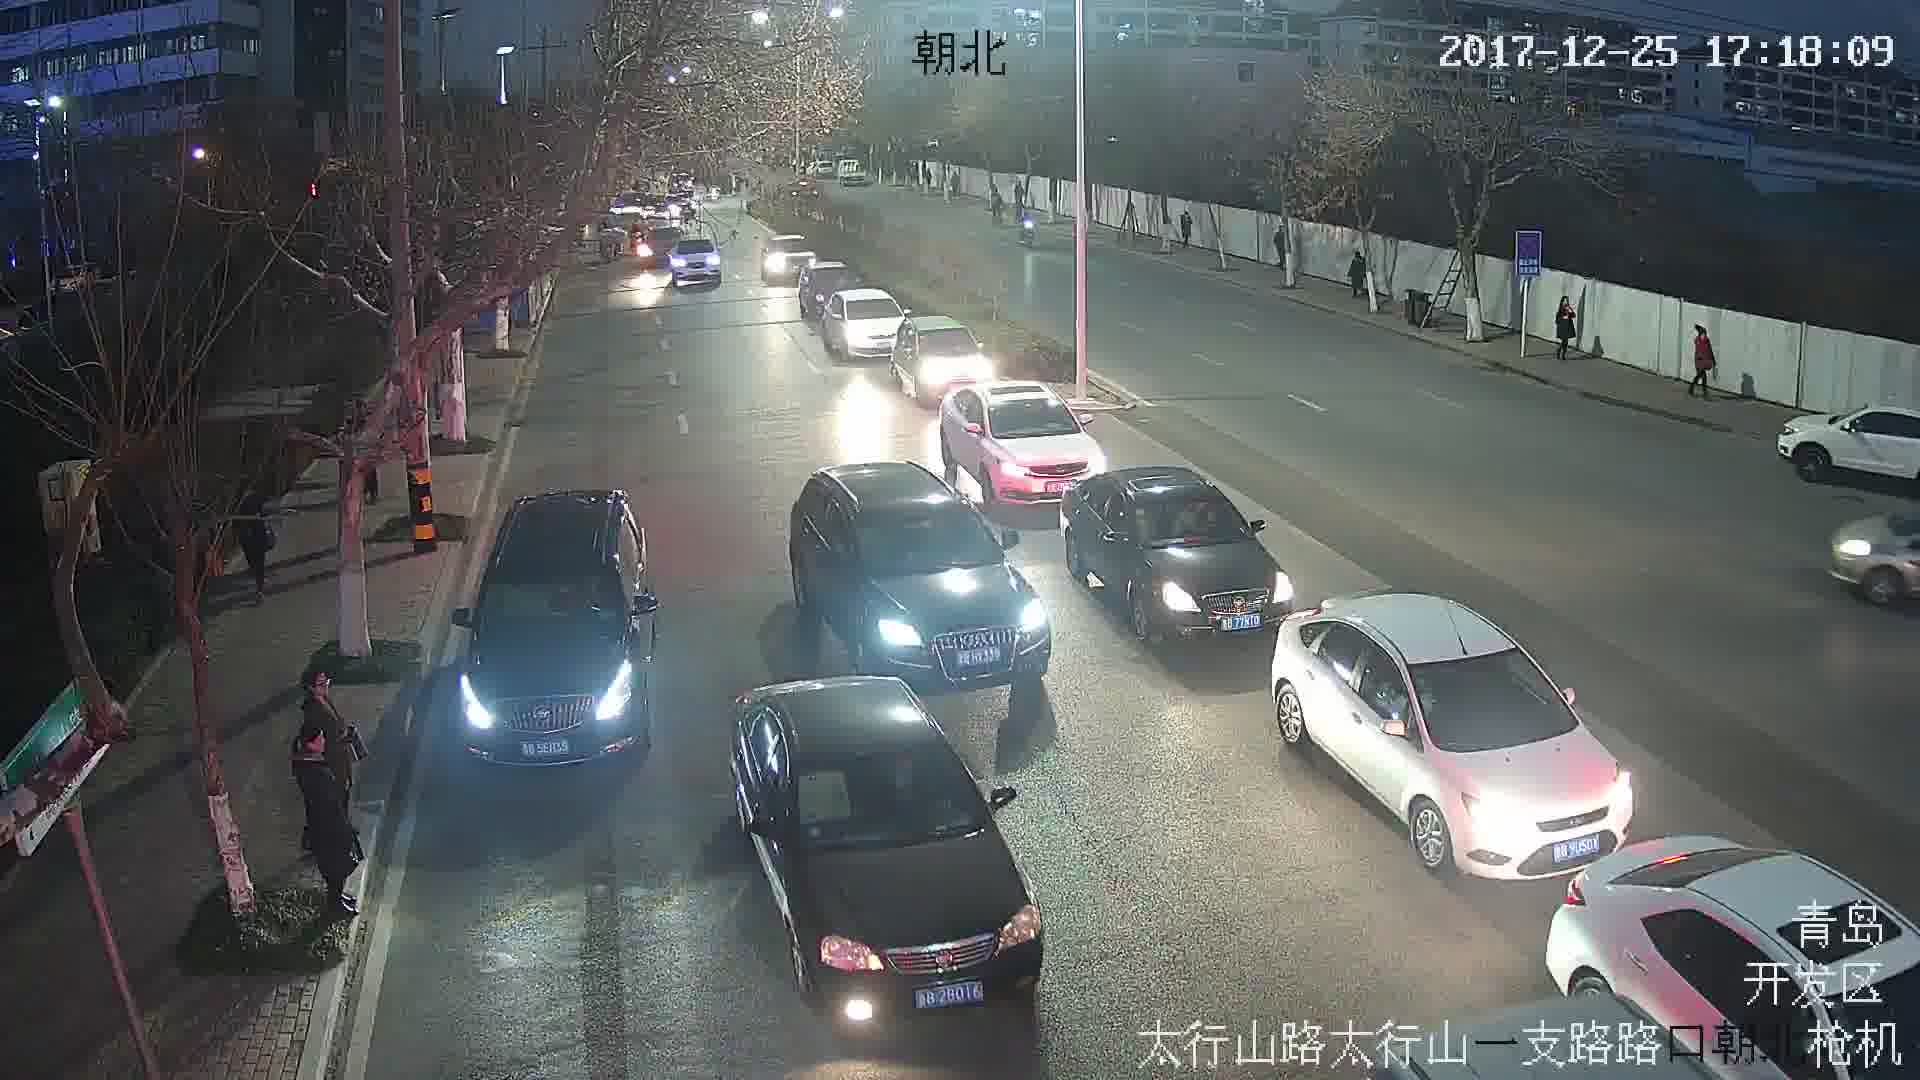car: (732, 680, 1043, 1032), (1274, 599, 1630, 869), (793, 460, 1060, 687), (456, 489, 656, 767), (1064, 467, 1293, 635), (952, 384, 1109, 500), (821, 296, 906, 355), (664, 238, 716, 284)
person: (284, 727, 366, 914), (296, 675, 368, 813), (1688, 327, 1714, 395), (1553, 292, 1575, 359), (1348, 249, 1363, 291)
